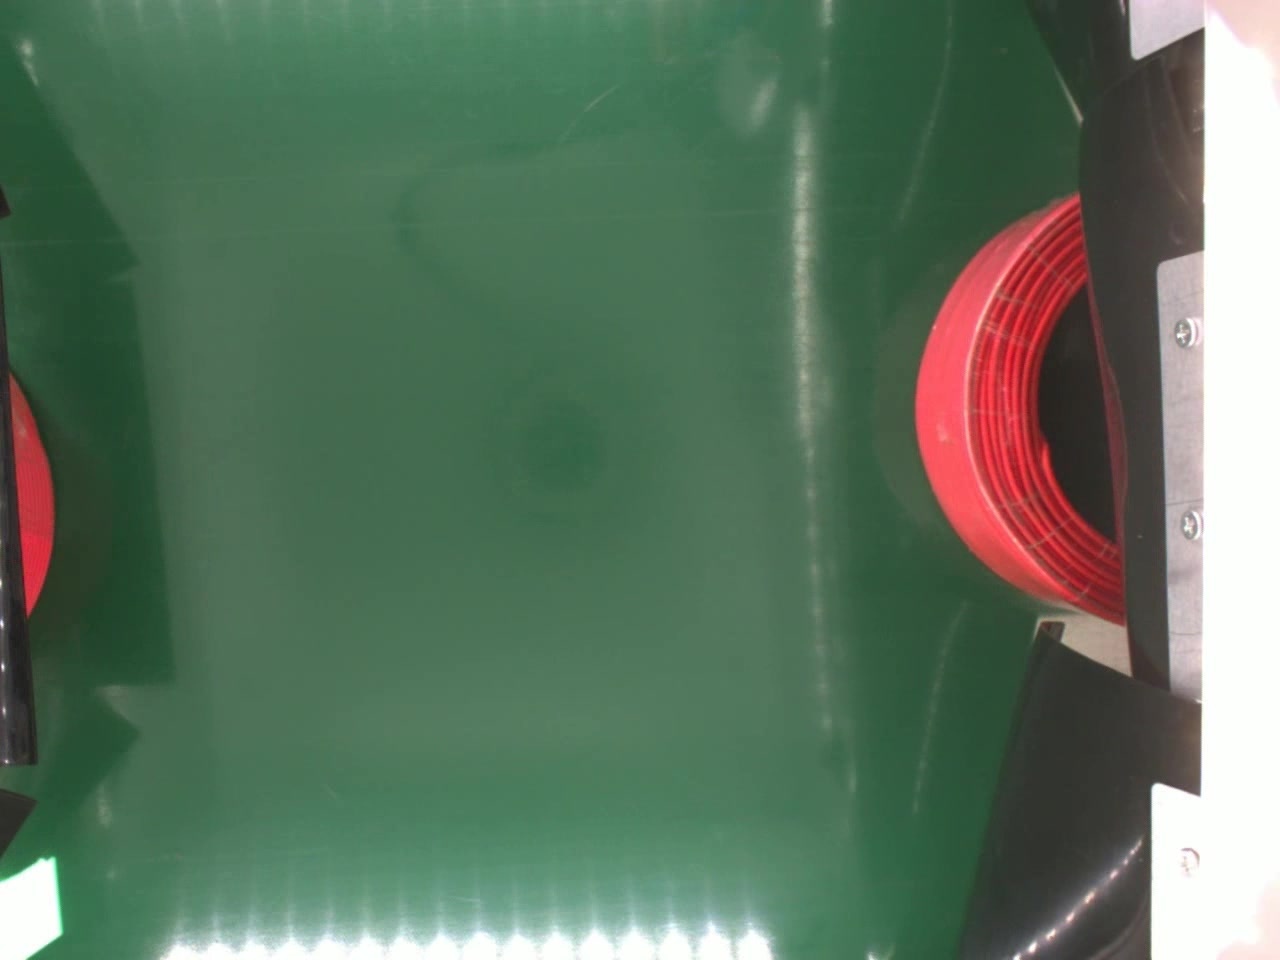red: (916, 185, 1112, 617)
